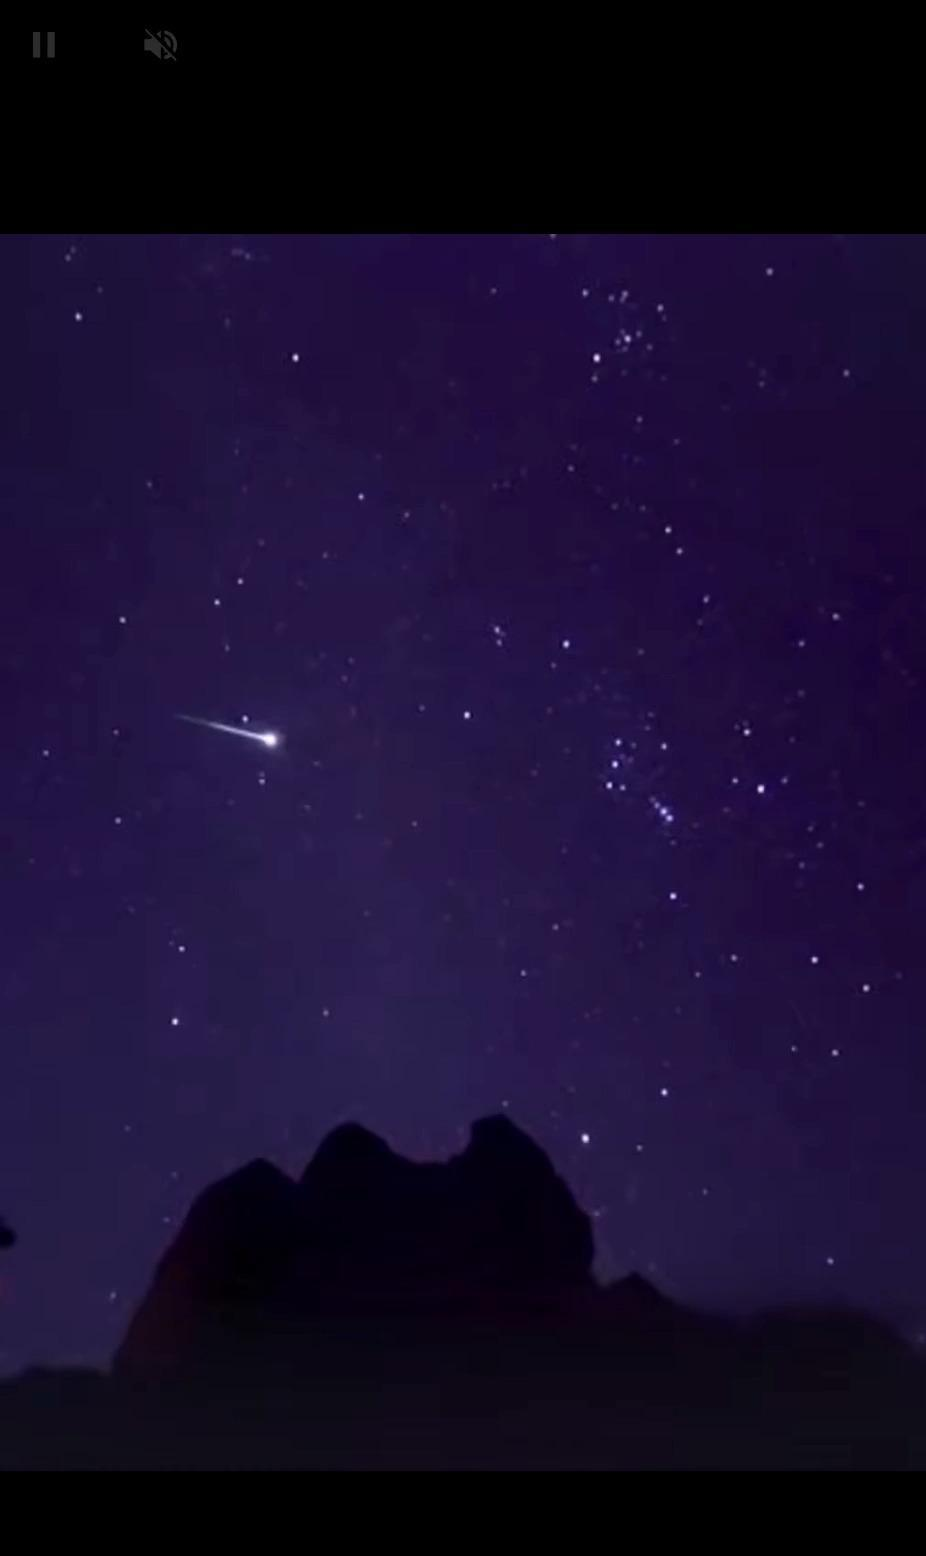meteorite: (149, 700, 305, 763)
